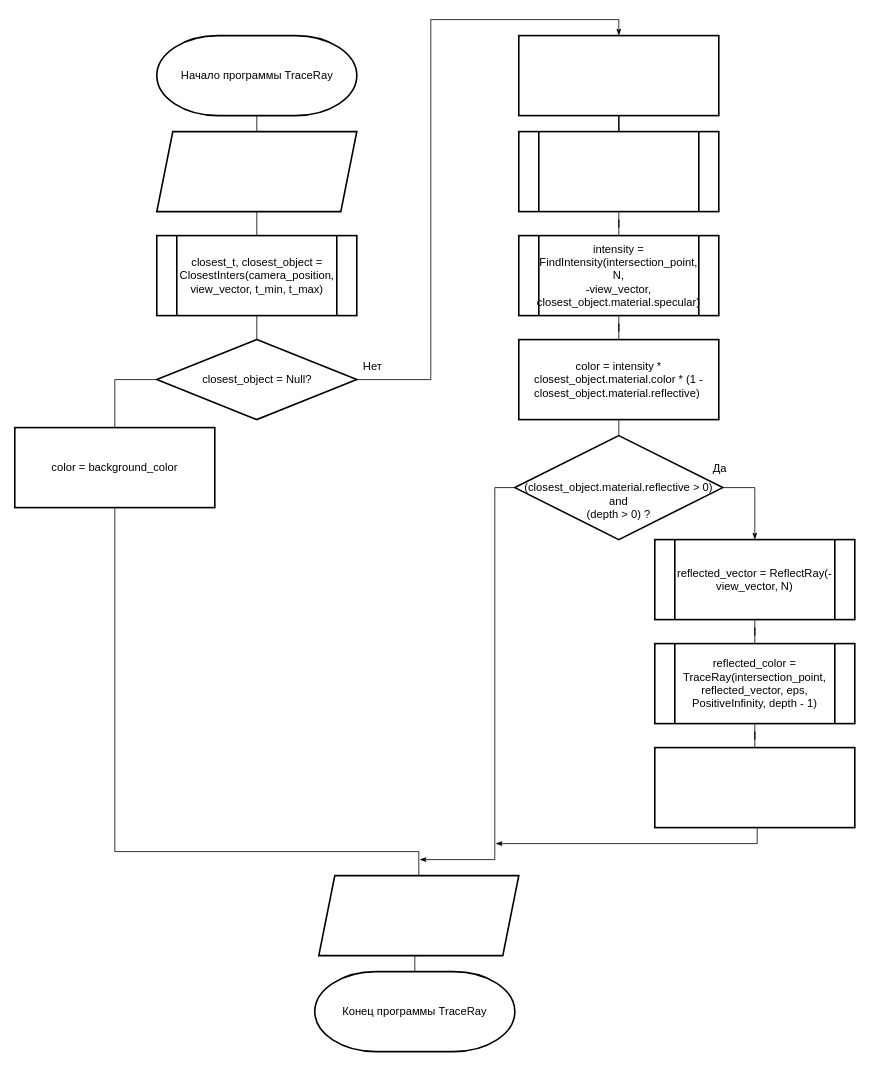
This 869x1066 diagram has some shape labels left out. The shapes that lost their labels are listed below. From the top down, each one's centre as x and y in pixels, then its label:
point 618,75: intersection_point = camera_position + closest_t * view_vector
point 256,171: camera_position, view_vector, t_min, t_max, depth
point 618,171: N = closest_object.find_normal( intersection_point)
point 754,787: color = color + reflected_color * closest_object.material.reflective
point 418,915: color
